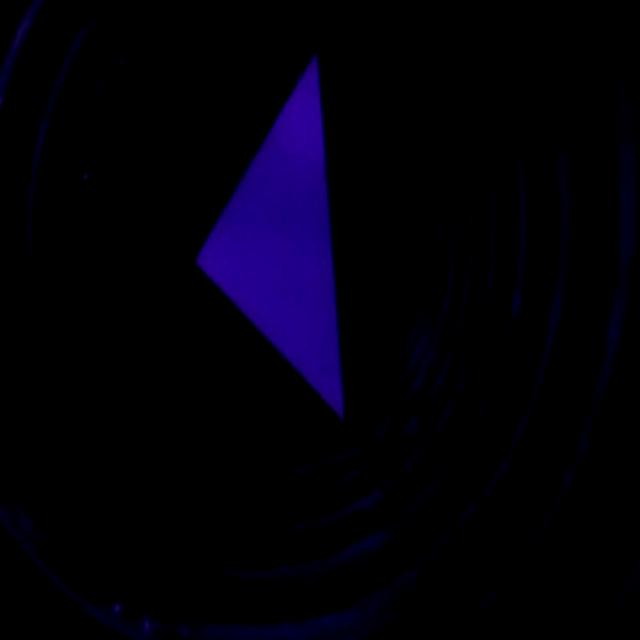obstacles: (191, 59, 345, 415)
